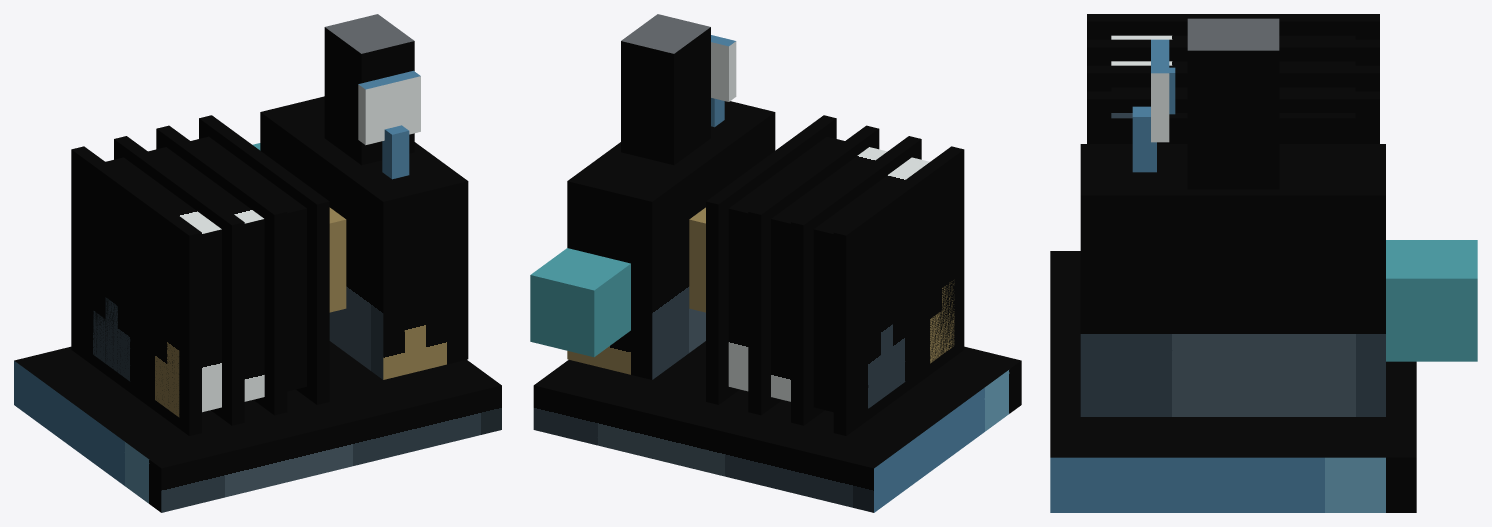
Rendered from lab_cooling_pump.obj.
3 views of the same model, side by side, from view 1: azimuth 30°, elevation 25°; view 2: azimuth 150°, elevation 25°; view 3: azimuth 270°, elevation 25° (orthographic). The views are drawn at different scales.
Size of the model in its own units: 1 by 1 by 0.875.
